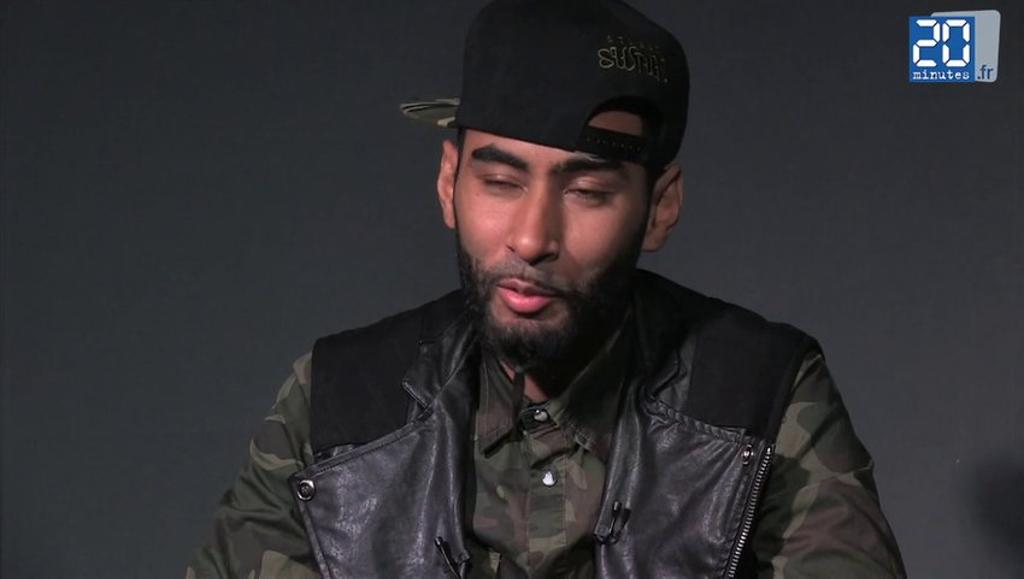face: (462, 114, 630, 338)
